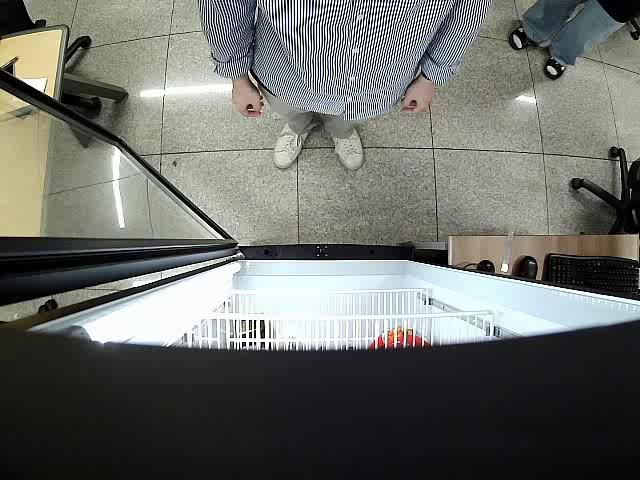00_hand: (399, 79, 434, 114), (232, 81, 264, 117)
